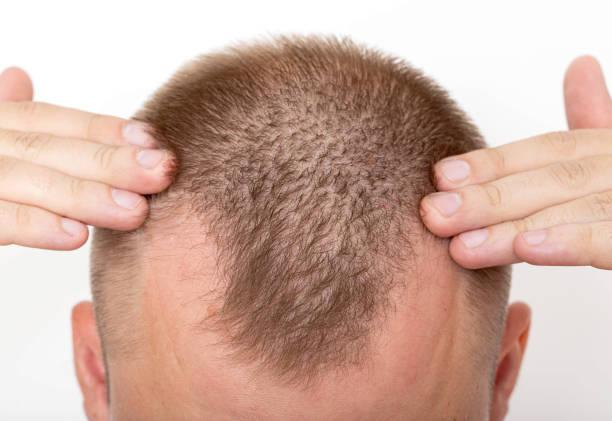low hair density: (239, 90, 364, 181), (274, 200, 355, 322)
